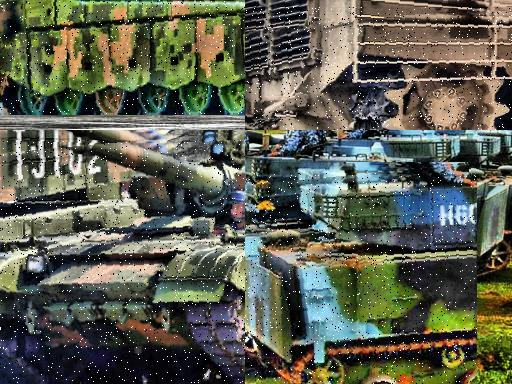tanks: (1, 142, 246, 384), (246, 174, 477, 384), (246, 10, 512, 131), (1, 1, 246, 115), (49, 131, 246, 241), (317, 141, 415, 203)
